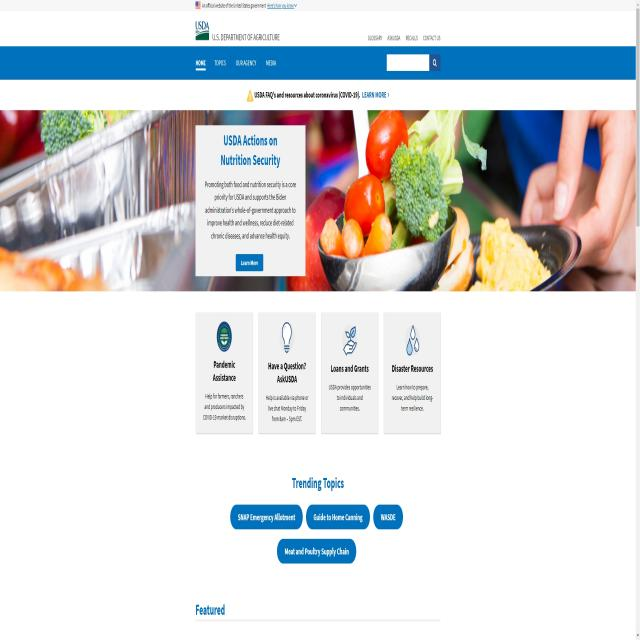menu-bar: (356, 28, 444, 44)
search: (382, 46, 441, 74)
tab-bar: (190, 45, 282, 76)
